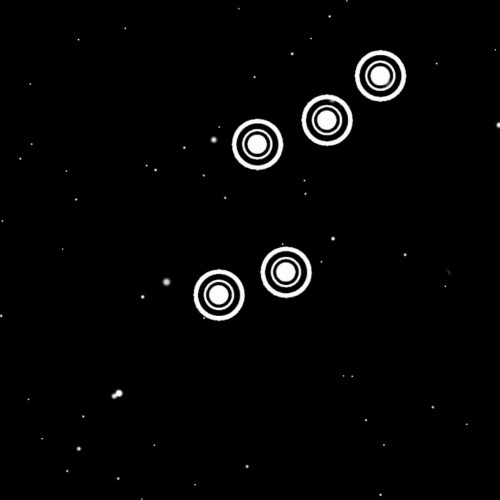lyra: (181, 28, 425, 336)
